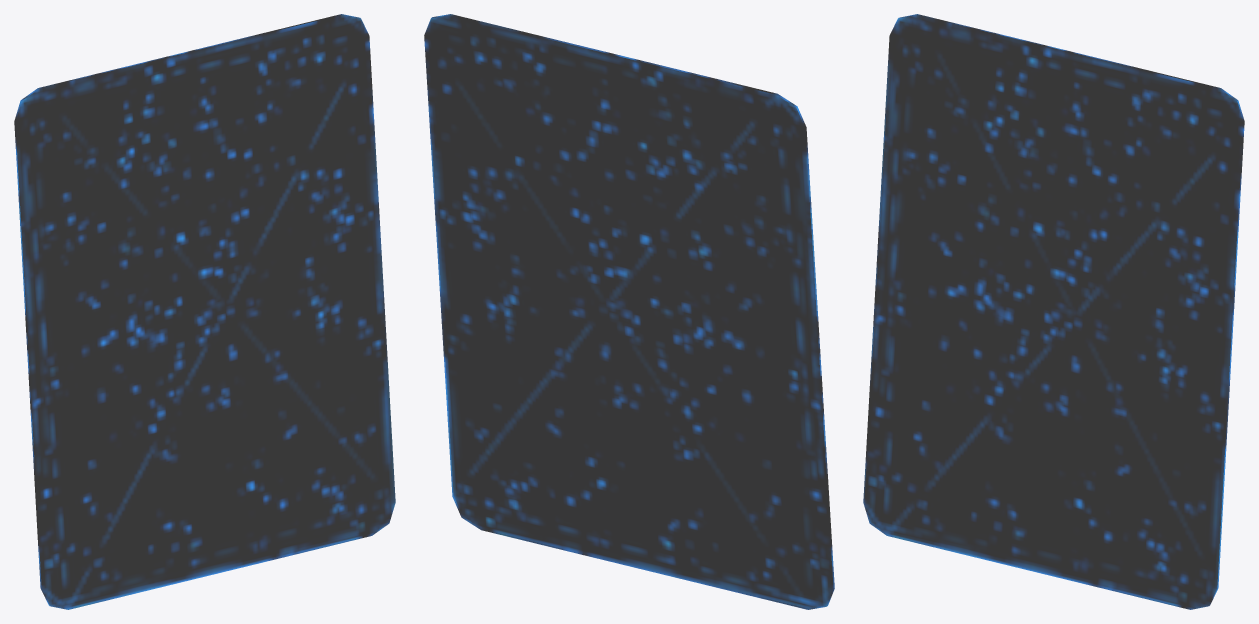
File: holo.glb
3 views of the same model, side by side, from view 1: azimuth 30°, elevation 25°; view 2: azimuth 150°, elevation 25°; view 3: azimuth 330°, elevation 25° (orthographic). The views are drawn at different scales.
Visible parts, largest first — view 1: Hologram_Hologram_0; view 2: Hologram_Hologram_0; view 3: Hologram_Hologram_0.
Part boxes in pixels (x1,y1,x2,y2): Hologram_Hologram_0: [14, 14, 395, 609]; Hologram_Hologram_0: [424, 14, 834, 609]; Hologram_Hologram_0: [863, 14, 1244, 609].
Size of what is drawn, in the model's own units: 3.74 by 5.05 by 0.5575.
1 material, 1 textured.
